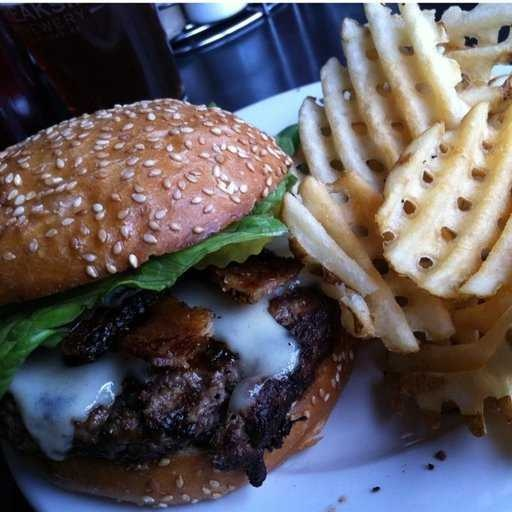hamburger: (7, 104, 358, 492)
